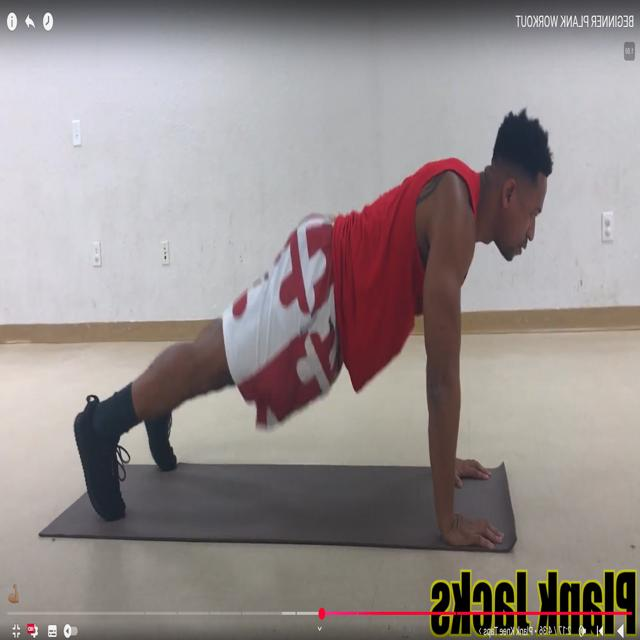Plank_Pose: (61, 97, 562, 557)
